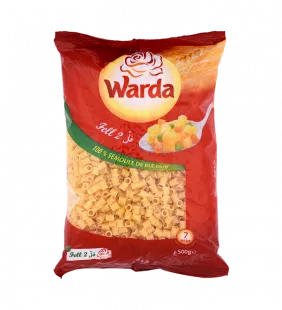LA ROSE BLANCHE: (44, 21, 236, 284)
